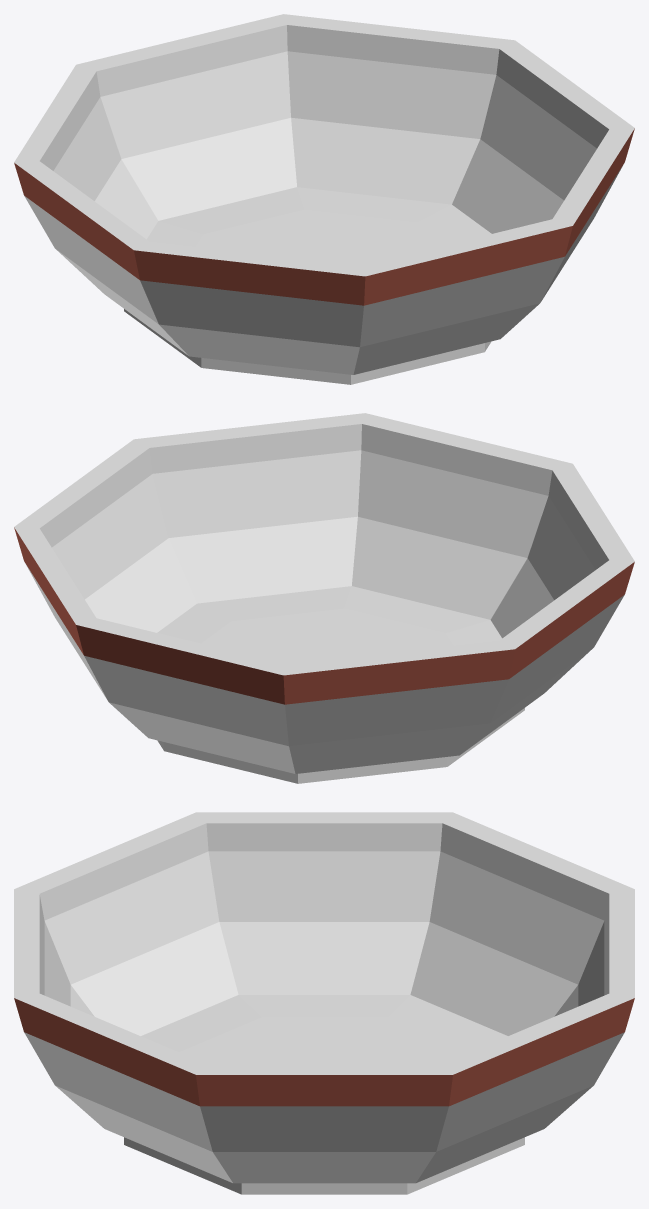
Rendered from Plate6_C3.fbx.
3 views of the same model, one above another, from view 1: azimuth 30°, elevation 25°; view 2: azimuth 150°, elevation 25°; view 3: azimuth 270°, elevation 25° (orthographic). The views are drawn at different scales.
Parts seen in each view (by area): view 1: Plate6_C3; view 2: Plate6_C3; view 3: Plate6_C3.
Part boxes in pixels (box(x1,y1,x2,y2)): Plate6_C3: box(14, 14, 634, 384); Plate6_C3: box(14, 413, 634, 783); Plate6_C3: box(14, 812, 634, 1194).
Size of the model in its own units: 33.84 by 10 by 33.84.
